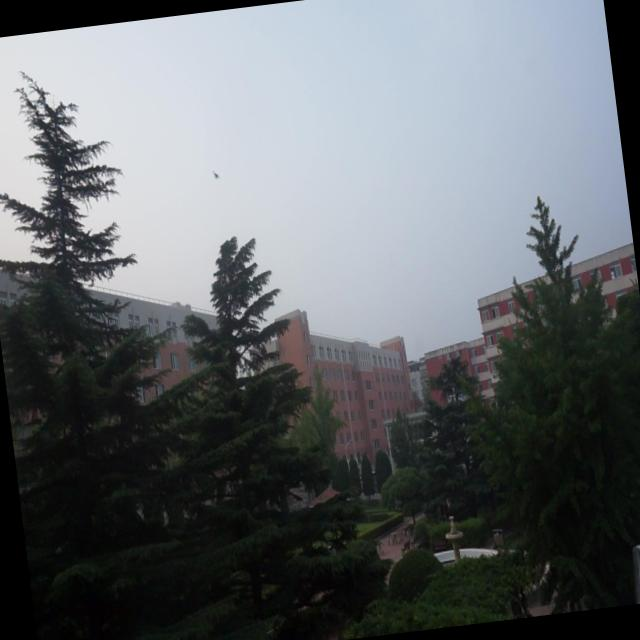drone: (208, 166, 224, 182)
